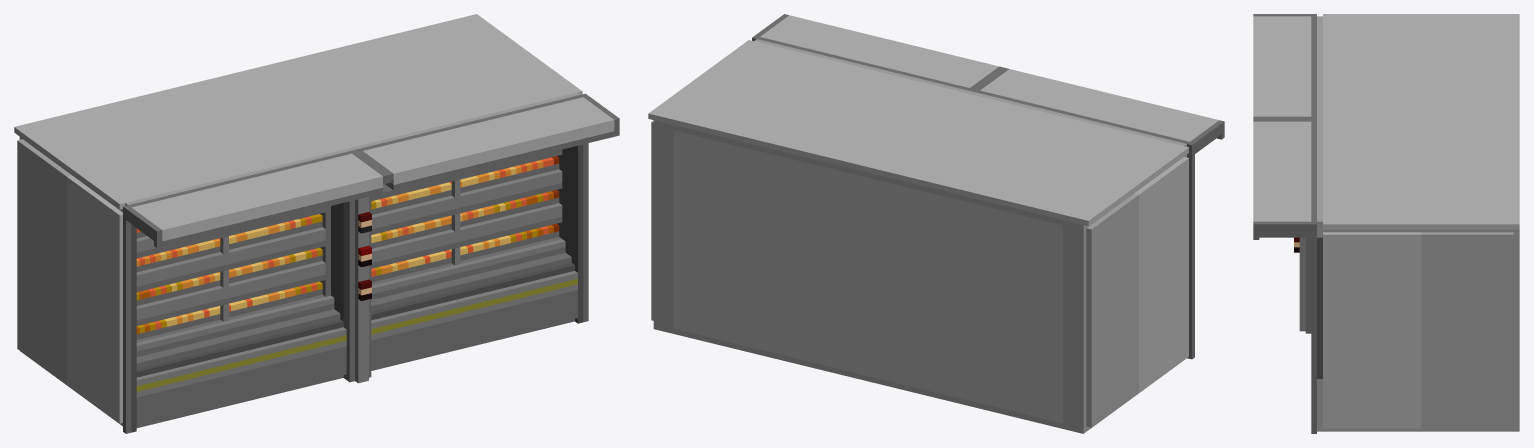
The model's file is Robot Manufacturing.obj.
3 views of the same model, side by side, from view 1: azimuth 30°, elevation 25°; view 2: azimuth 150°, elevation 25°; view 3: azimuth 270°, elevation 25° (orthographic). The views are drawn at different scales.
Bounding box in the file's own units: 86 × 40 × 46.
1 material, 1 textured.
